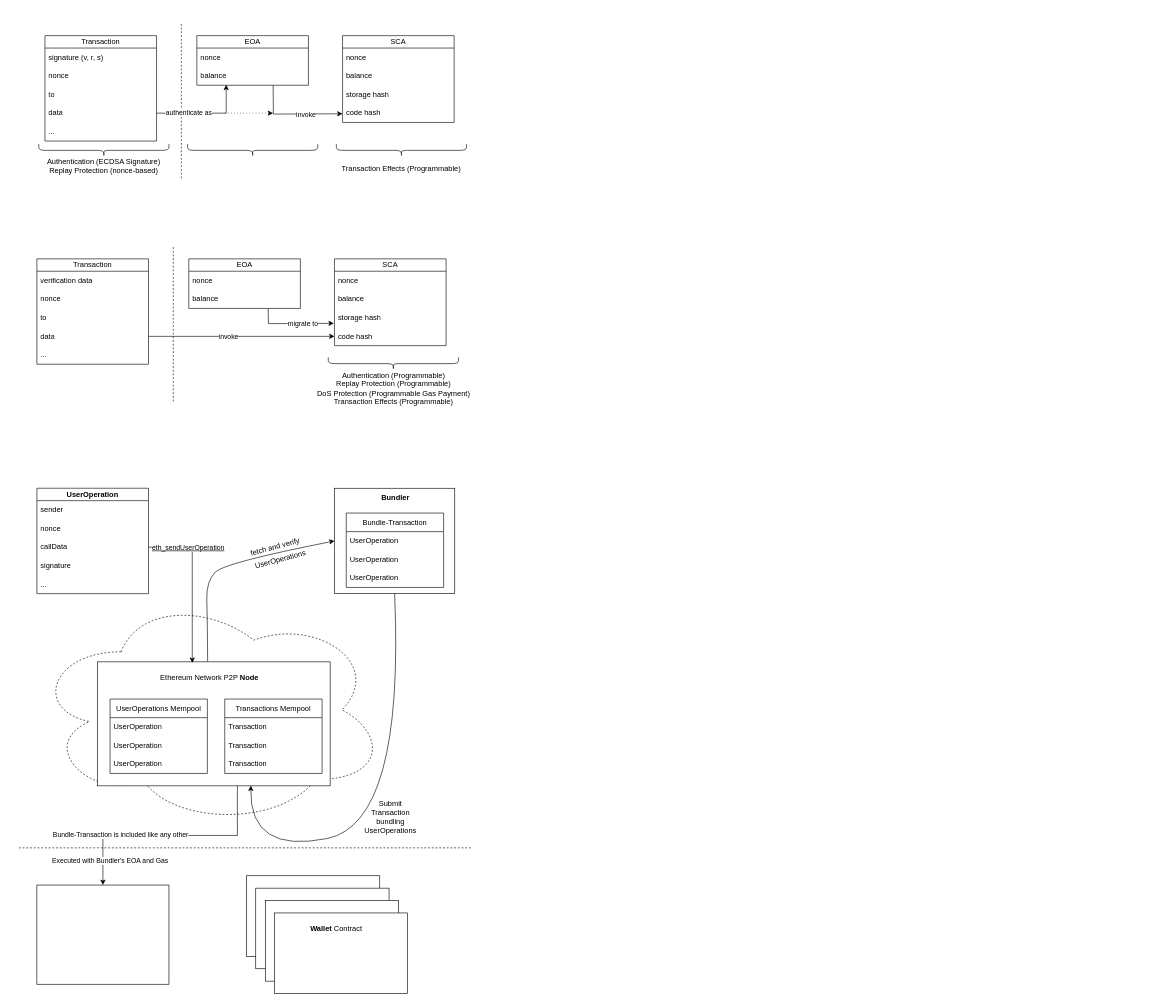
This 1165x1004 diagram has some shape labels left out. The shapes that lost their labels are listed below. From the top down, each one's centre as x and y in pixels, then its label:
At pixel 252 150: "DoS Protection (EOA Pays Gas)".
At pixel 102 934: "EntryPoint Contract".
